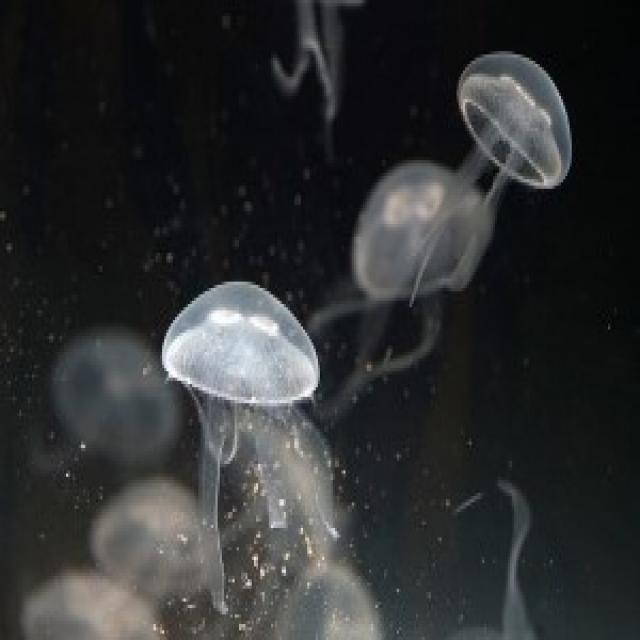Jellyfish: (163, 266, 338, 552), (346, 145, 482, 342), (450, 39, 577, 227), (227, 419, 374, 566), (35, 328, 168, 454), (96, 490, 225, 600), (19, 555, 152, 639)
